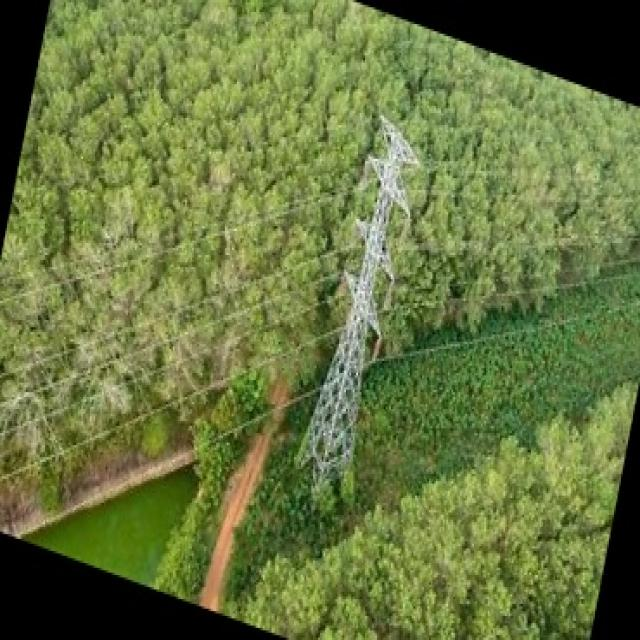utility poles: (310, 86, 420, 507)
